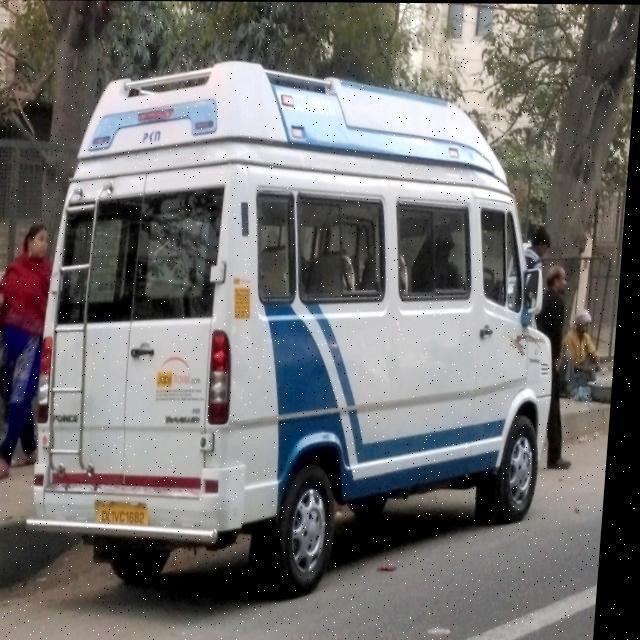Ambulance: (0, 44, 623, 630), (0, 425, 613, 640)
